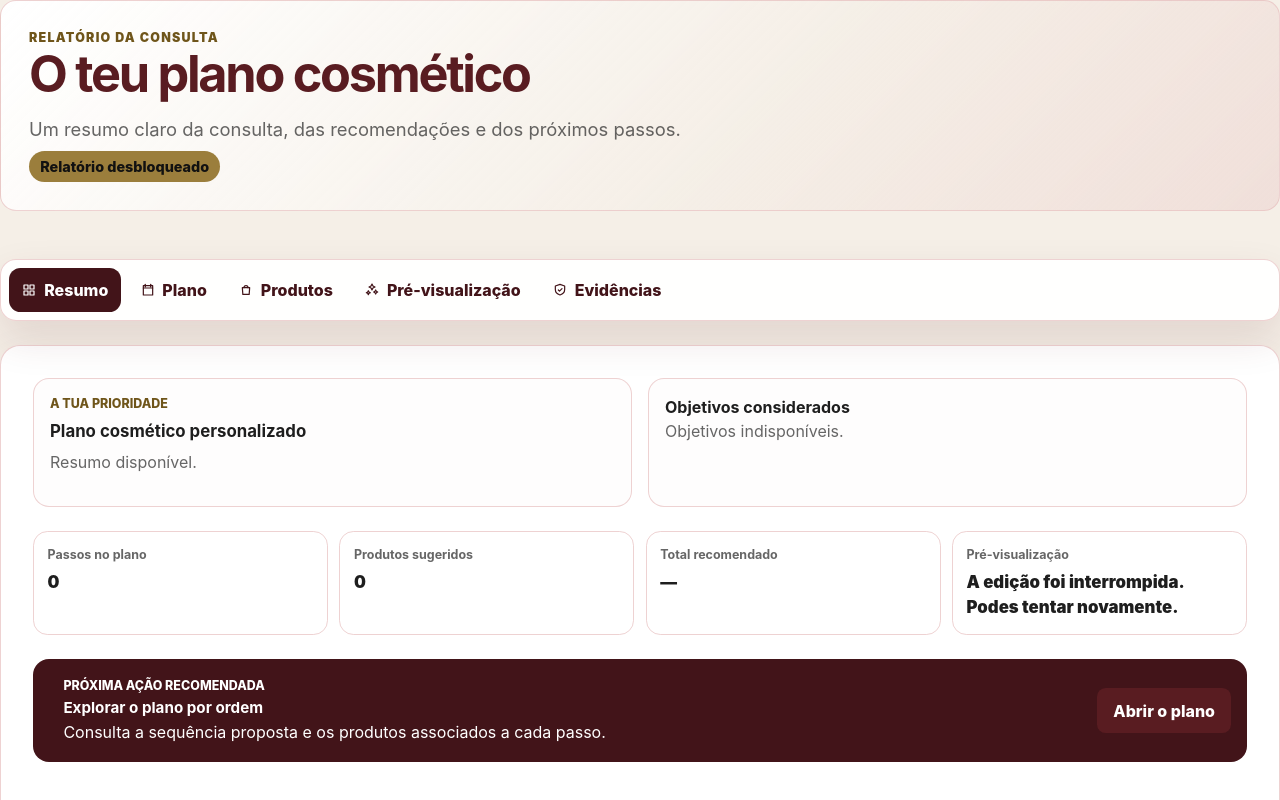
Test: ConsultationReportPage › retoma voucher e job de maquilhagem devolvidos pelo relatório
expect the text "A edição foi interrompida. Podes tentar novamente." is shown: met, box [966, 572, 1184, 617]
Click the link "Pré-visualização". click: point(442, 290)
box: [364, 280, 521, 300]
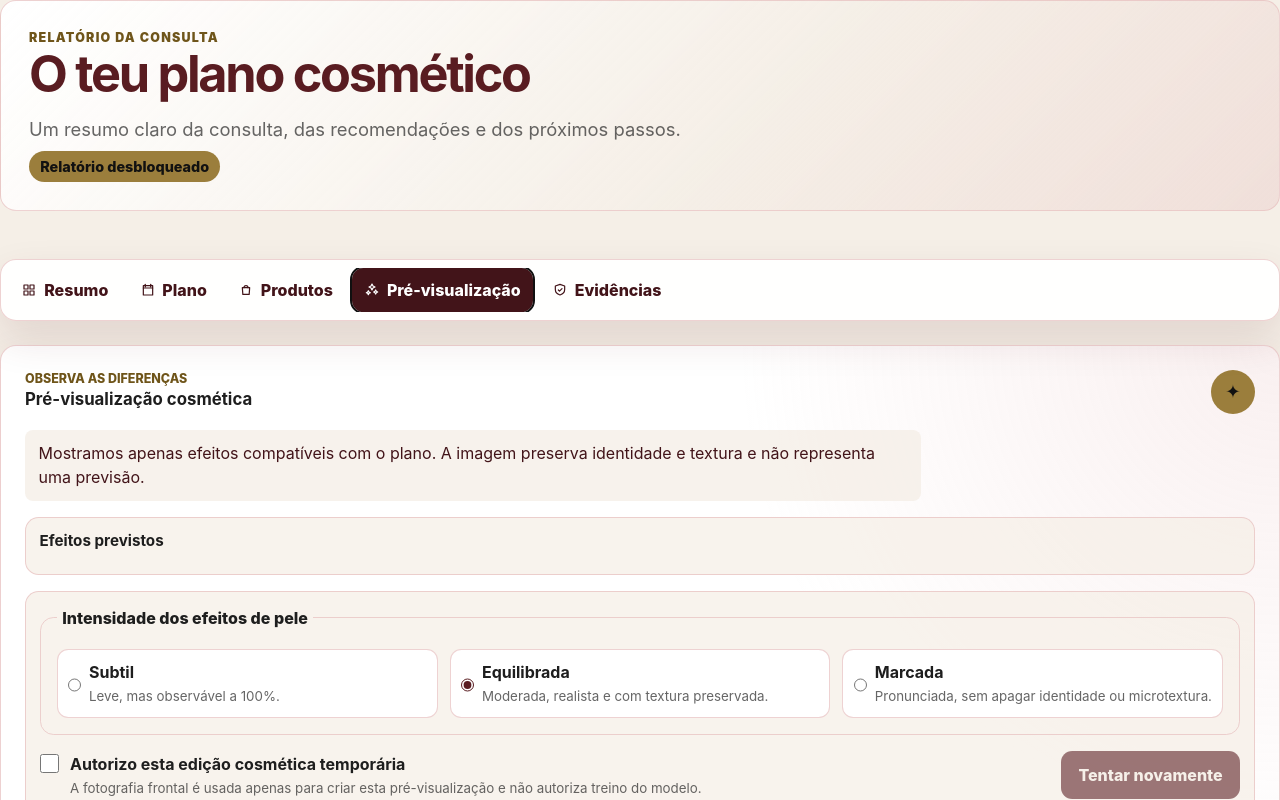
expect the button "Tentar novamente" is disabled: met, box [1061, 751, 1240, 799]
Click the checkbox labelled "Autorizo esta edição cosmética temporária". click: point(49, 764)
box: [40, 754, 59, 773]
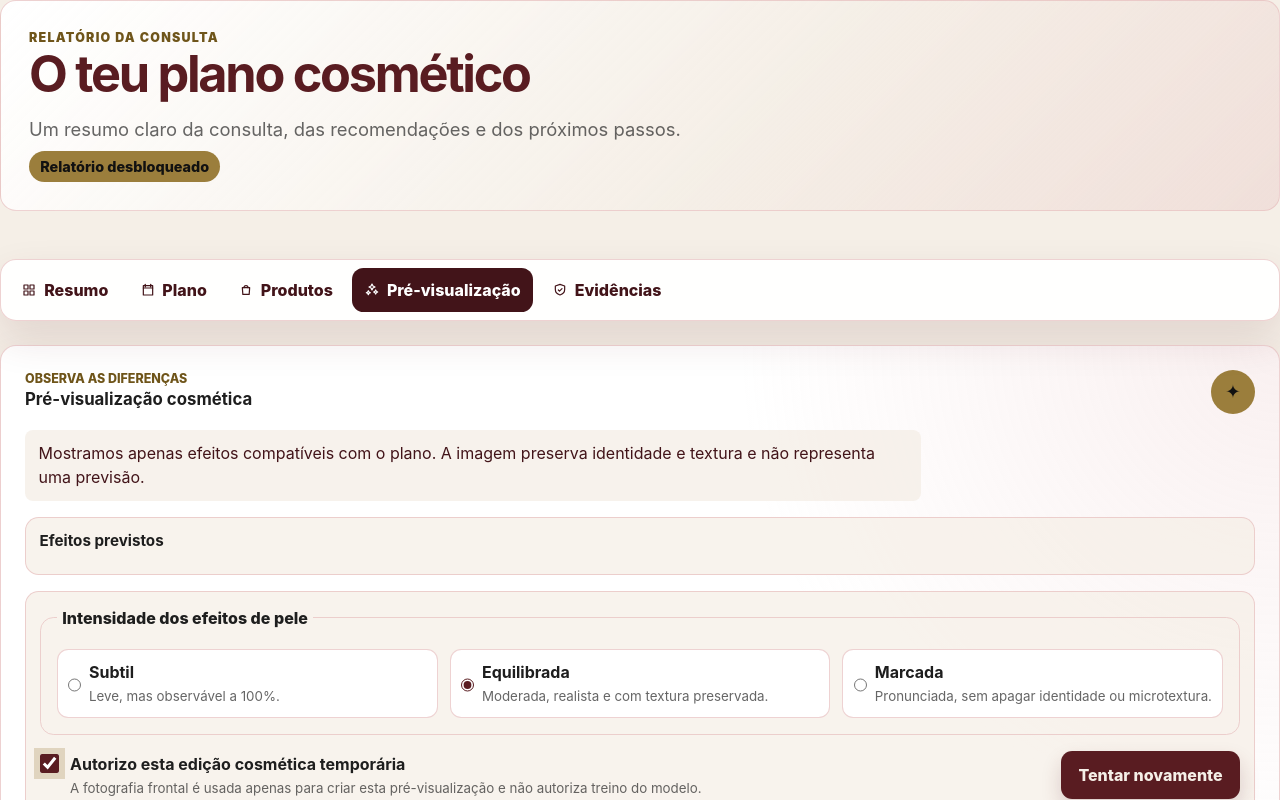
expect the button "Tentar novamente" is enabled: met, box [1061, 751, 1240, 799]
